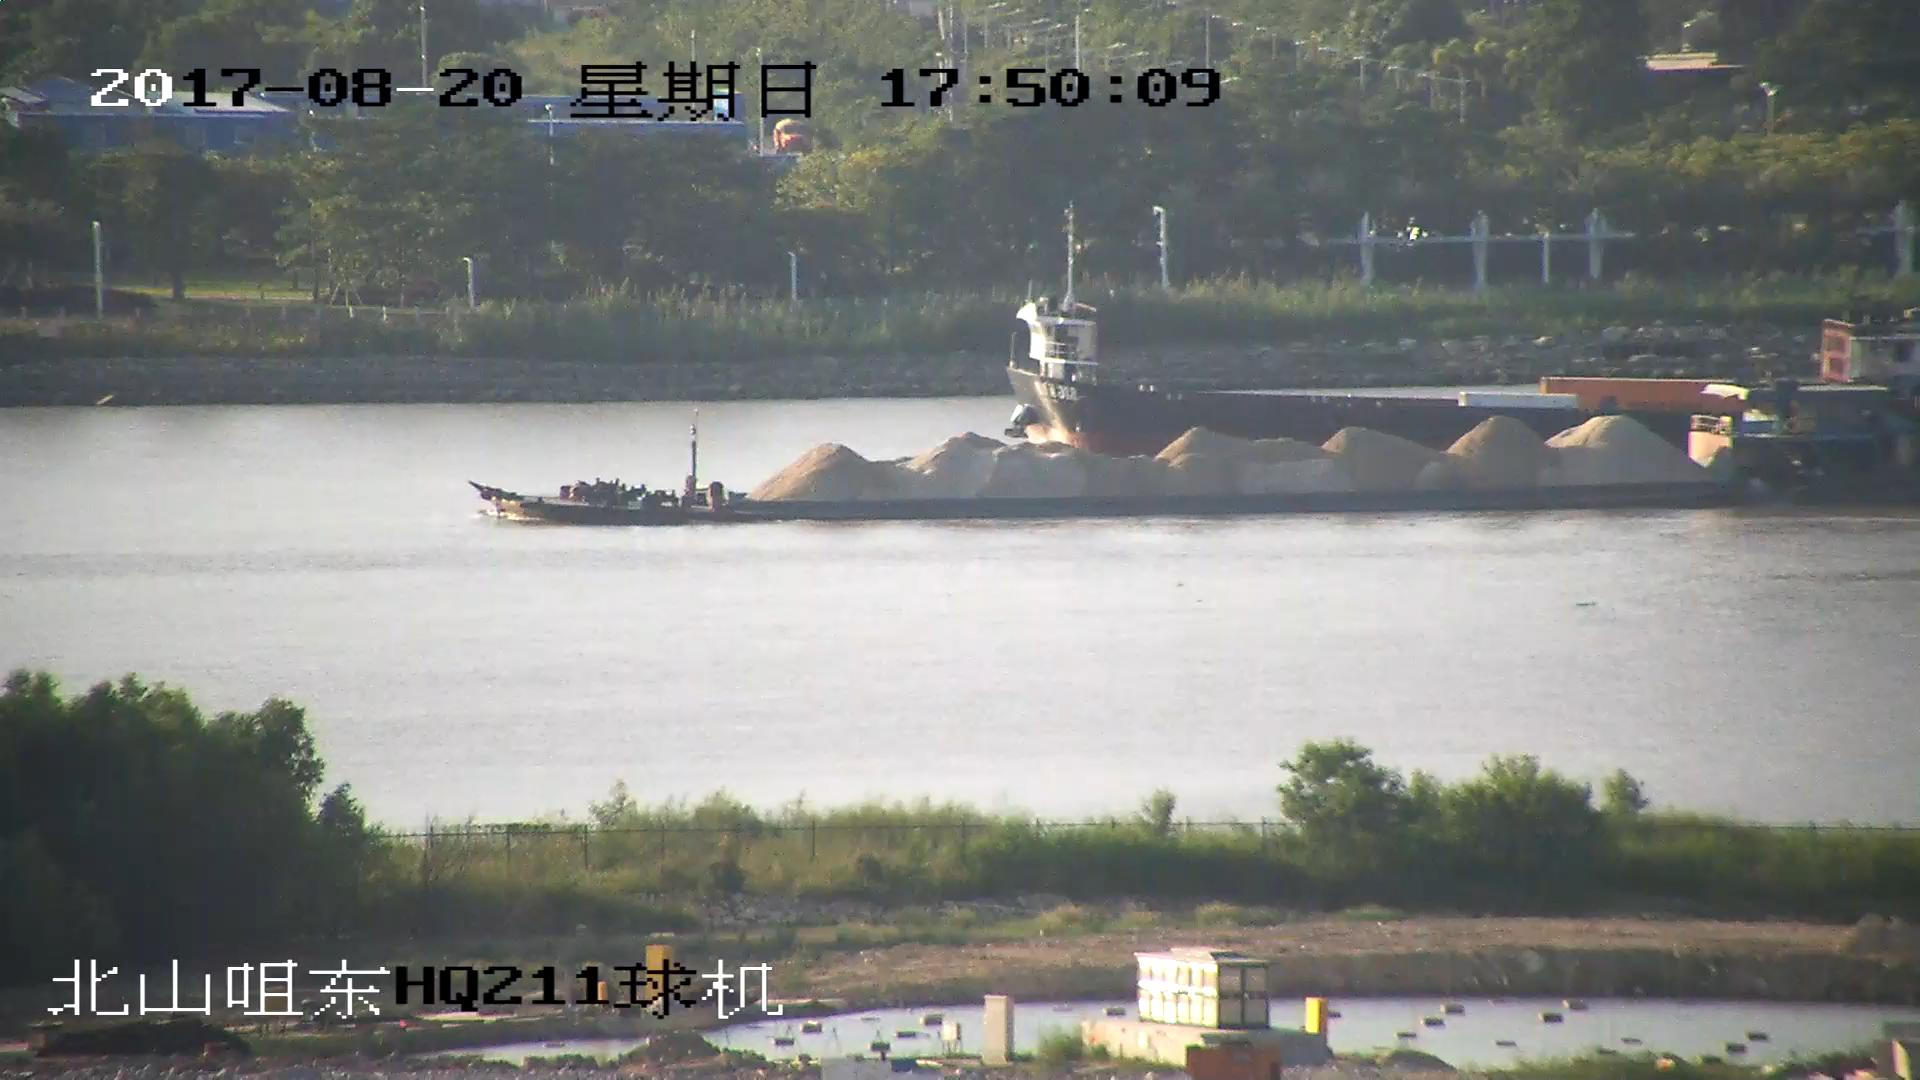general cargo ship: (1001, 205, 1920, 454)
ore carrier: (478, 390, 1920, 515)
